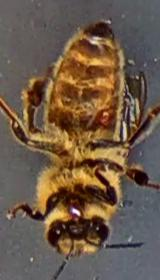varroa_mite: (82, 98, 122, 132)
